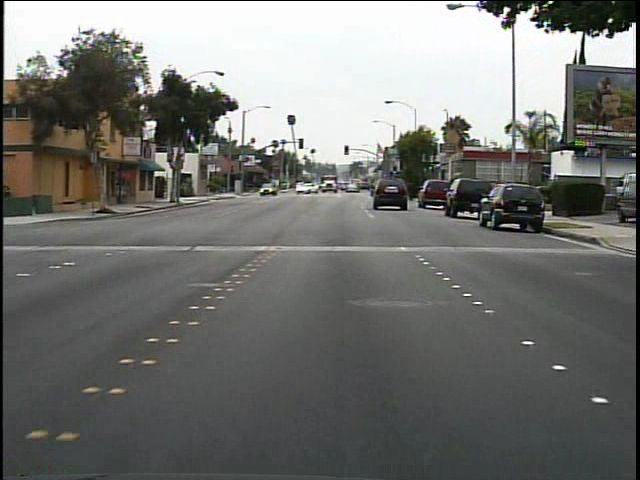car: (478, 180, 545, 233), (443, 178, 489, 219), (371, 174, 407, 208), (417, 181, 454, 206)
